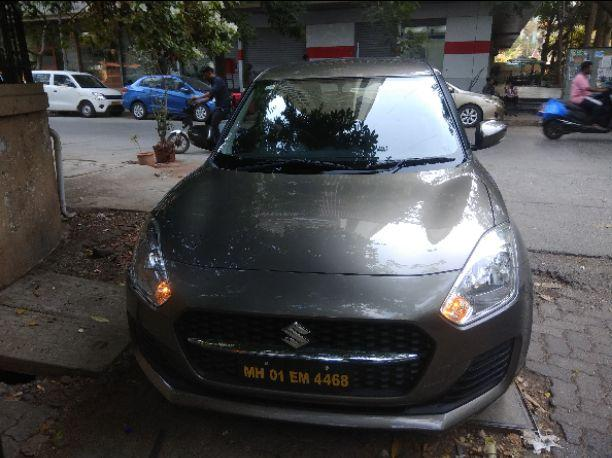license_plate: (125, 55, 534, 433), (239, 362, 352, 389)
